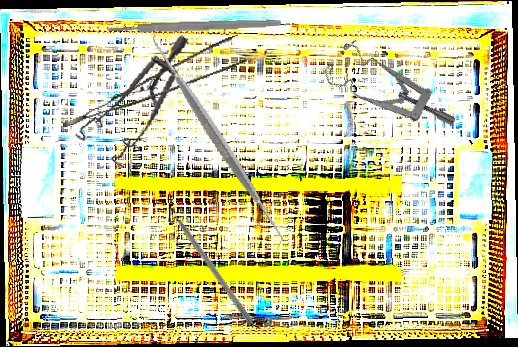Pusher: (161, 196, 256, 326)
Scalpel Handle: (106, 17, 283, 35)
Spatula Surgical: (102, 24, 333, 251)
Speculum: (316, 20, 459, 169), (70, 19, 189, 177)
Tissue Forceps: (52, 34, 250, 128)
